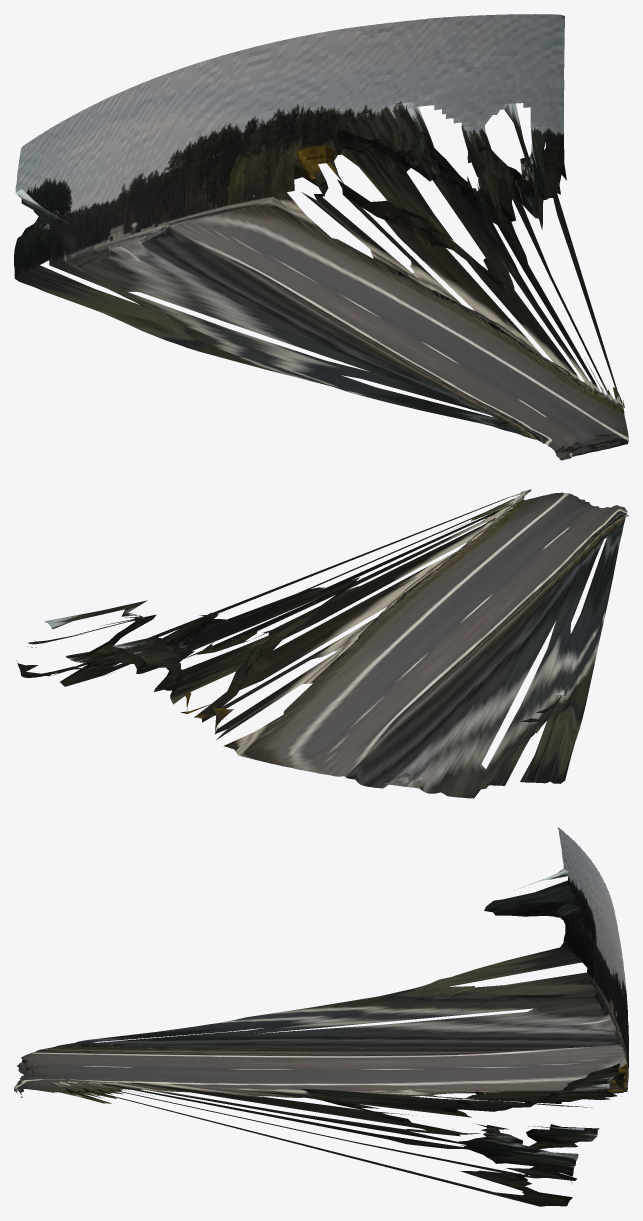
3 renders of one model, top to bottom at view 1: azimuth 30°, elevation 25°; view 2: azimuth 150°, elevation 25°; view 3: azimuth 270°, elevation 25°, orthographic. The views are drawn at different scales.
Parts seen in each view (by area): view 1: defaultobject; view 2: defaultobject; view 3: defaultobject.
Boxes of the visible parts, <box> form: defaultobject: <box>14,14,628,460</box>; defaultobject: <box>16,489,628,798</box>; defaultobject: <box>14,827,628,1206</box>.
Size of the model in its own units: 41.09 by 12.73 by 44.34.
Materials: 1 (1 with a texture image).
